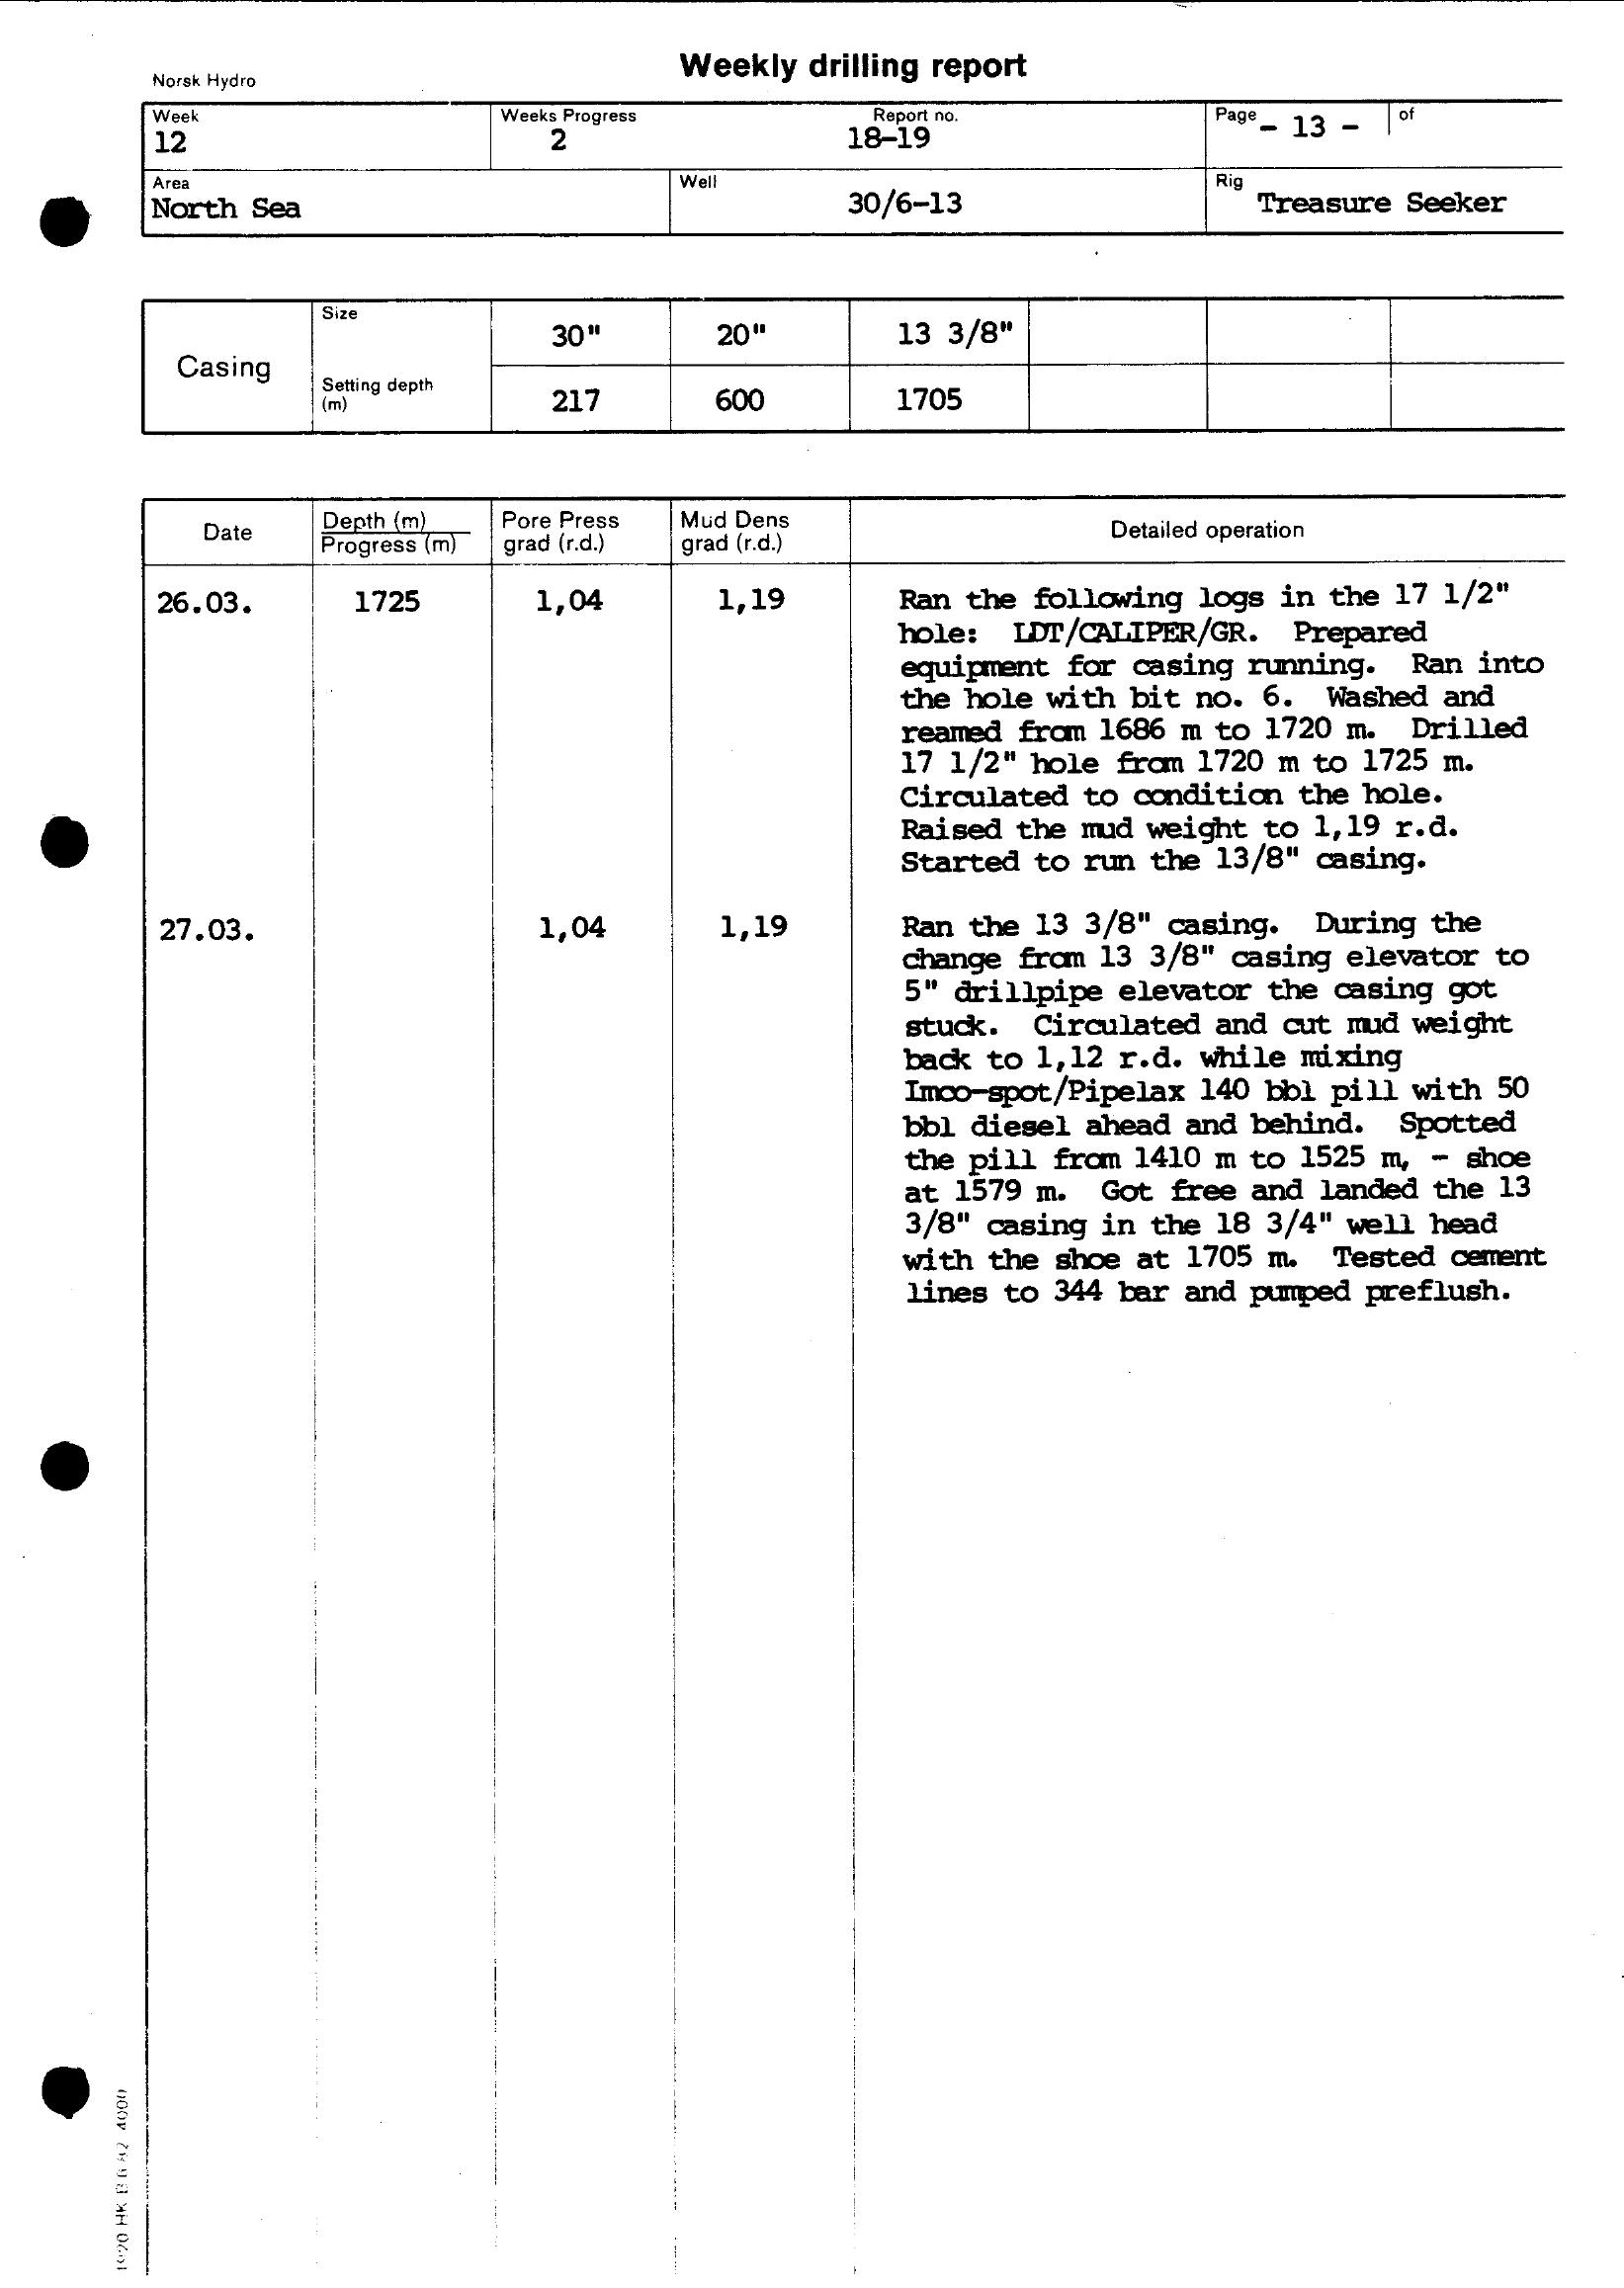graph: (128, 91, 1624, 1365)
text: (673, 44, 1033, 100)
